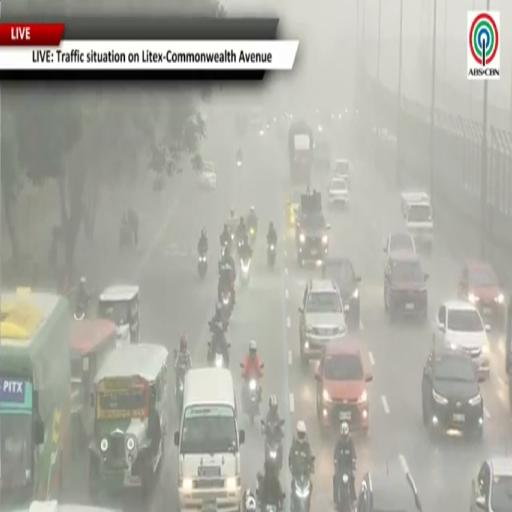bus: (0, 288, 70, 509)
car: (422, 348, 483, 439), (315, 340, 372, 434), (433, 300, 490, 380), (299, 280, 347, 365), (357, 462, 422, 511), (384, 252, 428, 321), (458, 261, 506, 322), (325, 256, 361, 328), (296, 190, 330, 265), (471, 457, 511, 511), (404, 198, 434, 252), (401, 191, 430, 216), (314, 125, 330, 170), (384, 233, 416, 255), (328, 176, 349, 206), (334, 159, 351, 187), (200, 162, 217, 189), (288, 190, 300, 227)
jeepney: (89, 344, 168, 501), (71, 319, 119, 456), (98, 285, 139, 343), (12, 501, 121, 511)
motorcycle: (291, 457, 314, 511), (261, 420, 284, 473), (256, 473, 285, 511), (334, 469, 353, 511), (245, 378, 261, 426), (209, 342, 230, 369), (176, 366, 185, 414), (221, 286, 232, 321), (119, 224, 133, 249), (74, 298, 88, 321), (240, 258, 251, 285), (197, 253, 208, 279), (267, 244, 275, 268), (248, 225, 257, 246), (74, 310, 85, 321), (237, 156, 242, 168)
truck: (289, 121, 314, 183)
